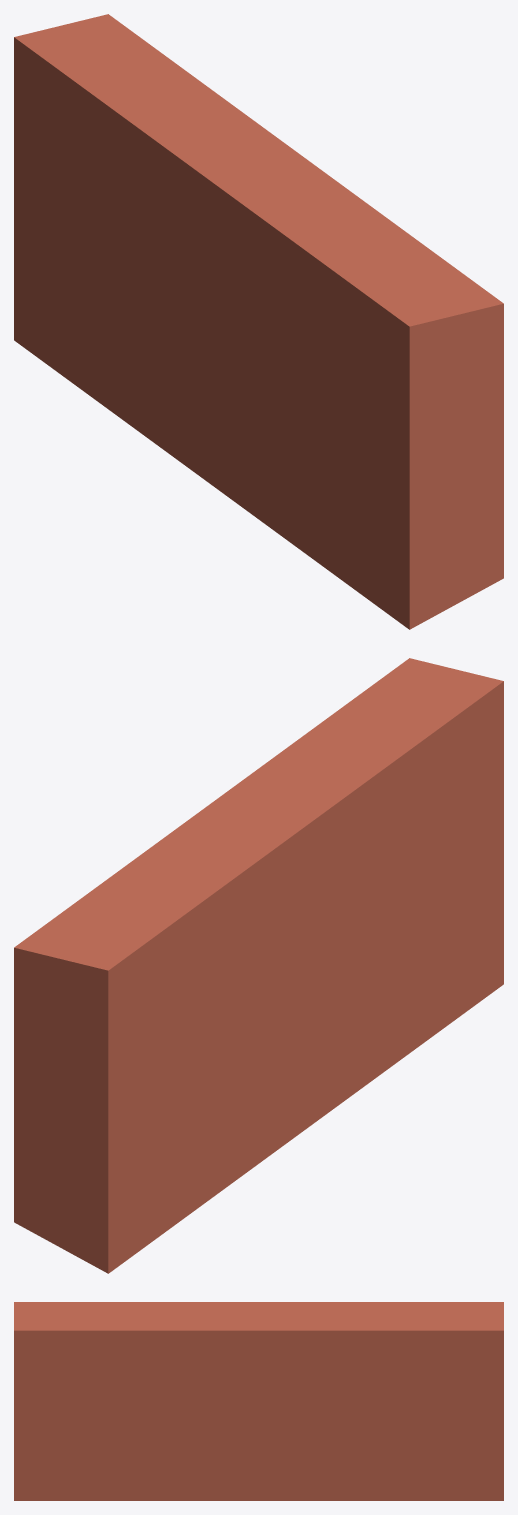
3 renders of one model, top to bottom at view 1: azimuth 30°, elevation 25°; view 2: azimuth 150°, elevation 25°; view 3: azimuth 270°, elevation 25°, orthographic. The views are drawn at different scales.
Visible parts, largest first — view 1: geometry_9; view 2: geometry_9; view 3: geometry_9.
Boxes of the visible parts, x1=… form: geometry_9: x1=14, y1=14, x2=503, y2=629; geometry_9: x1=14, y1=658, x2=503, y2=1273; geometry_9: x1=14, y1=1302, x2=503, y2=1500.
Bounding box in the file's own units: 0.00551 × 0.0169 × 0.04.
